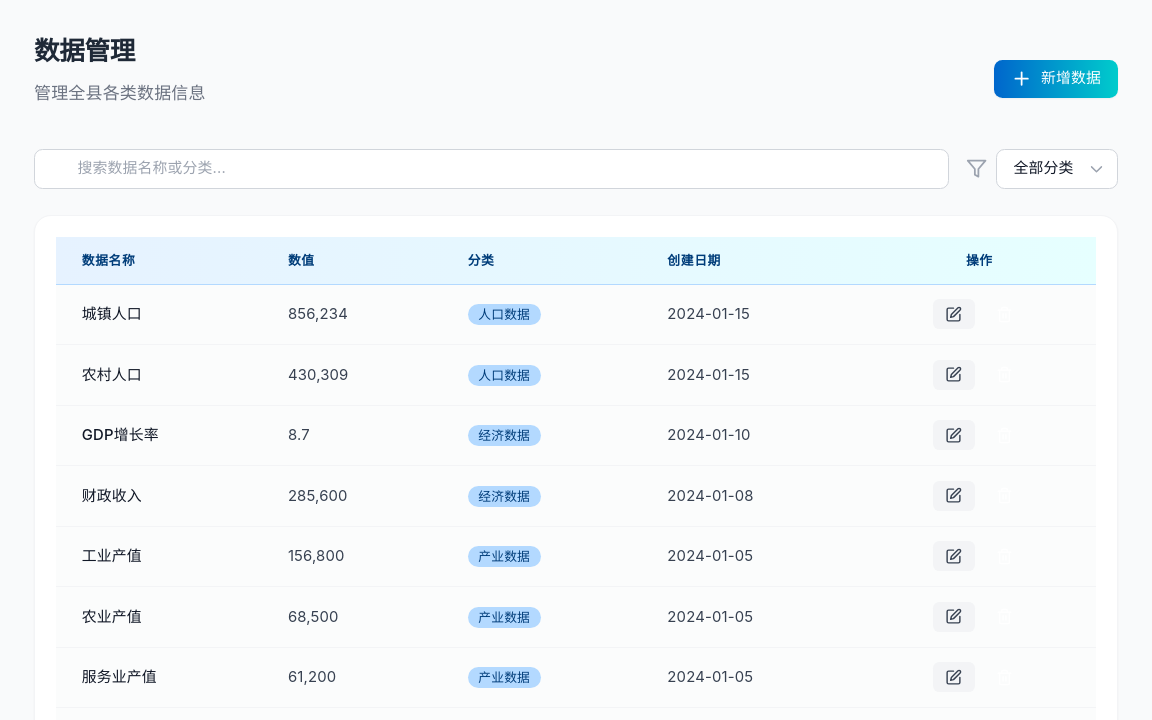
Test: DataManagement Page › shows error modal when only name is empty
This screenshot has width=1152, height=720.
Click the button "新增数据" at (1056, 79), box [994,60,1118,98]
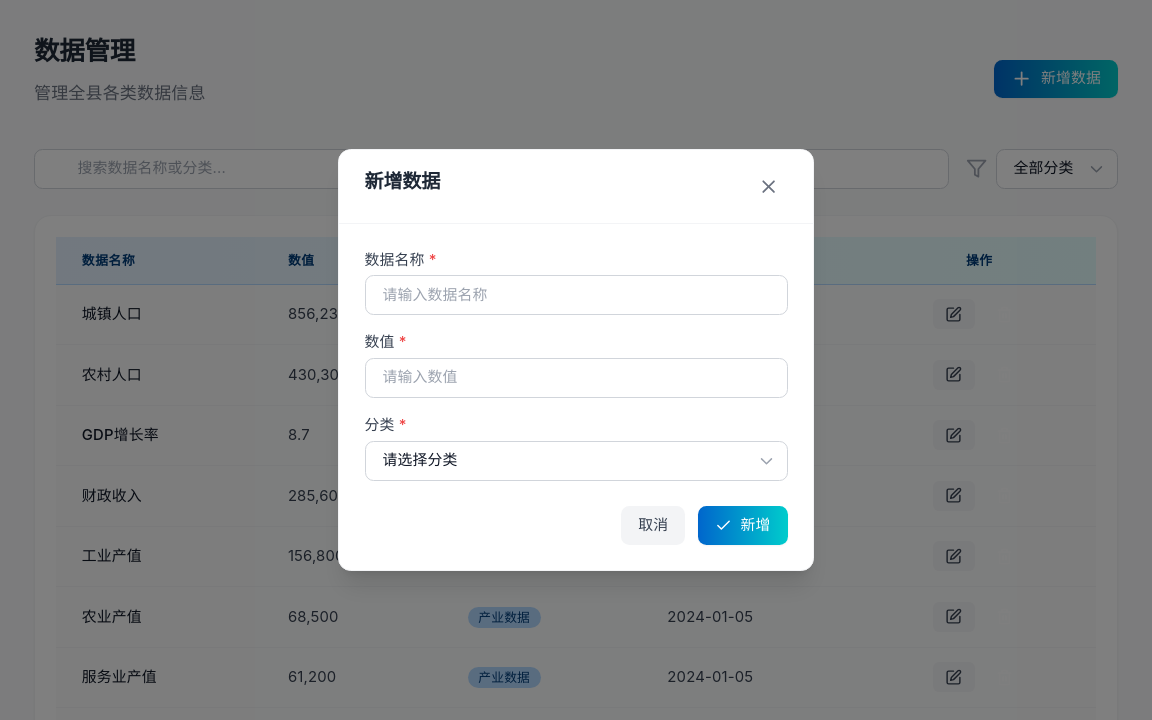
Type "100" into the number field with placeholder "请输入数值" at (576, 378), box [364,358,788,398]
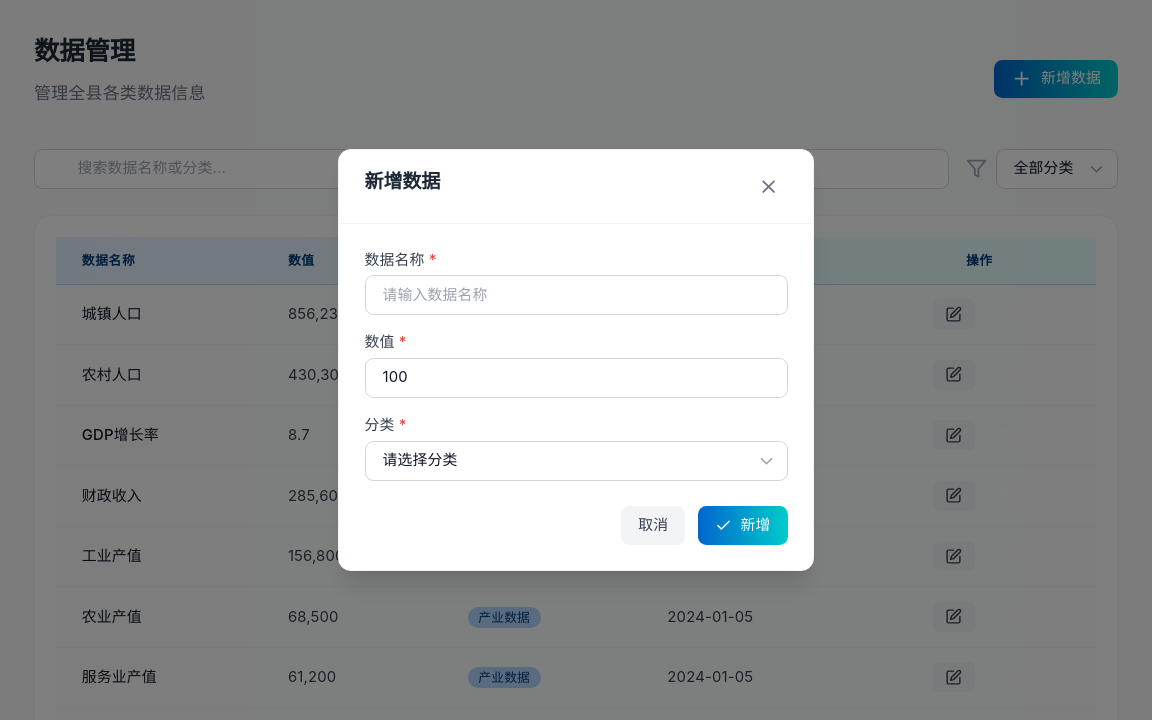
Select "人口数据" in the dropdown showing "请选择分类" at (576, 461), box [364,441,788,481]
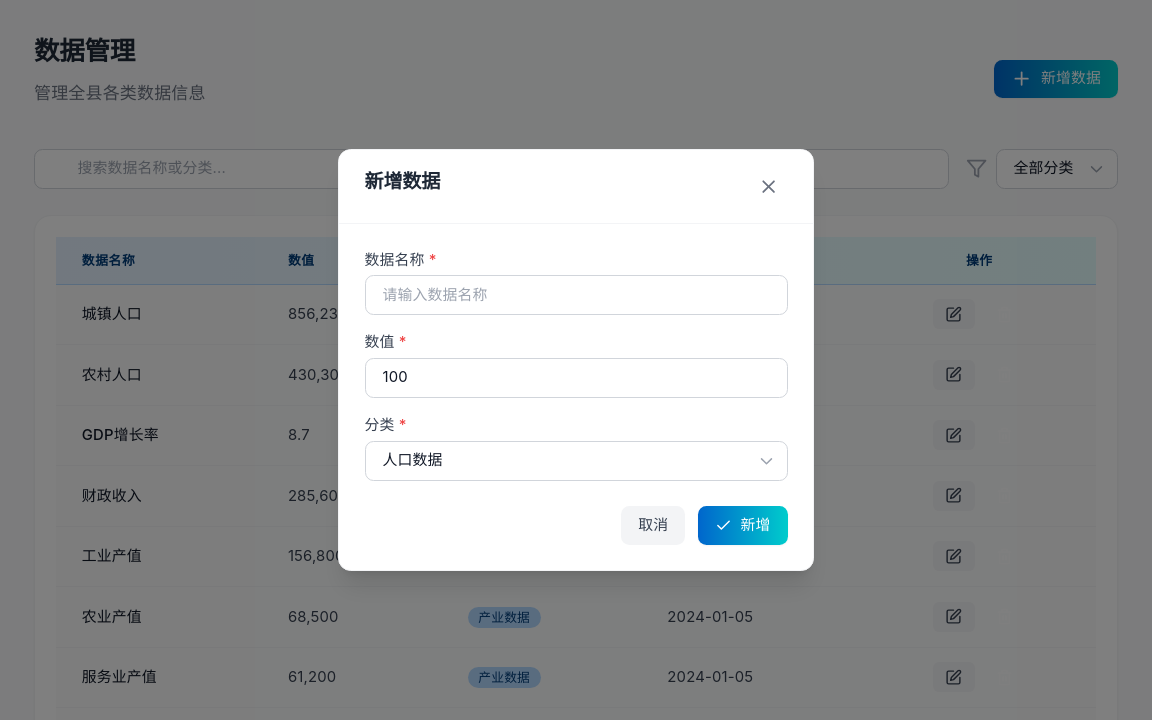
Click the button "新增" at (743, 526), box [698,506,788,545]
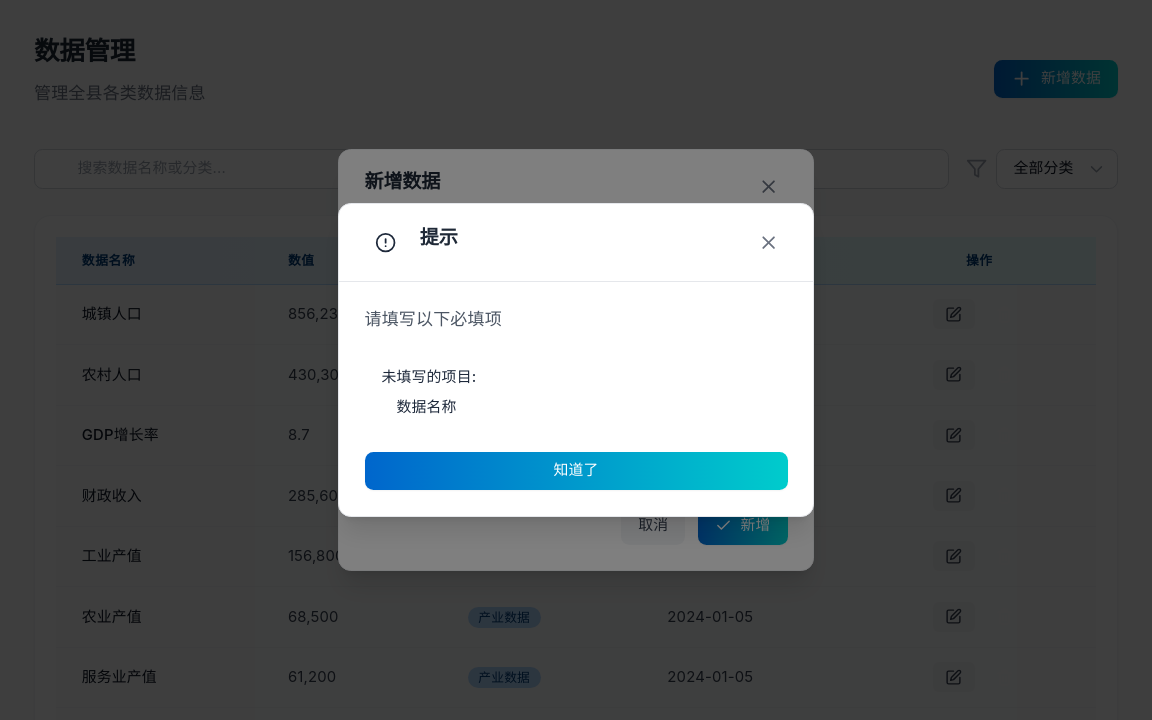
Check: the dialog "提示" is shown, box [338,203,814,517]
Check: the list item "数据名称" is shown, box [396,398,456,416]
